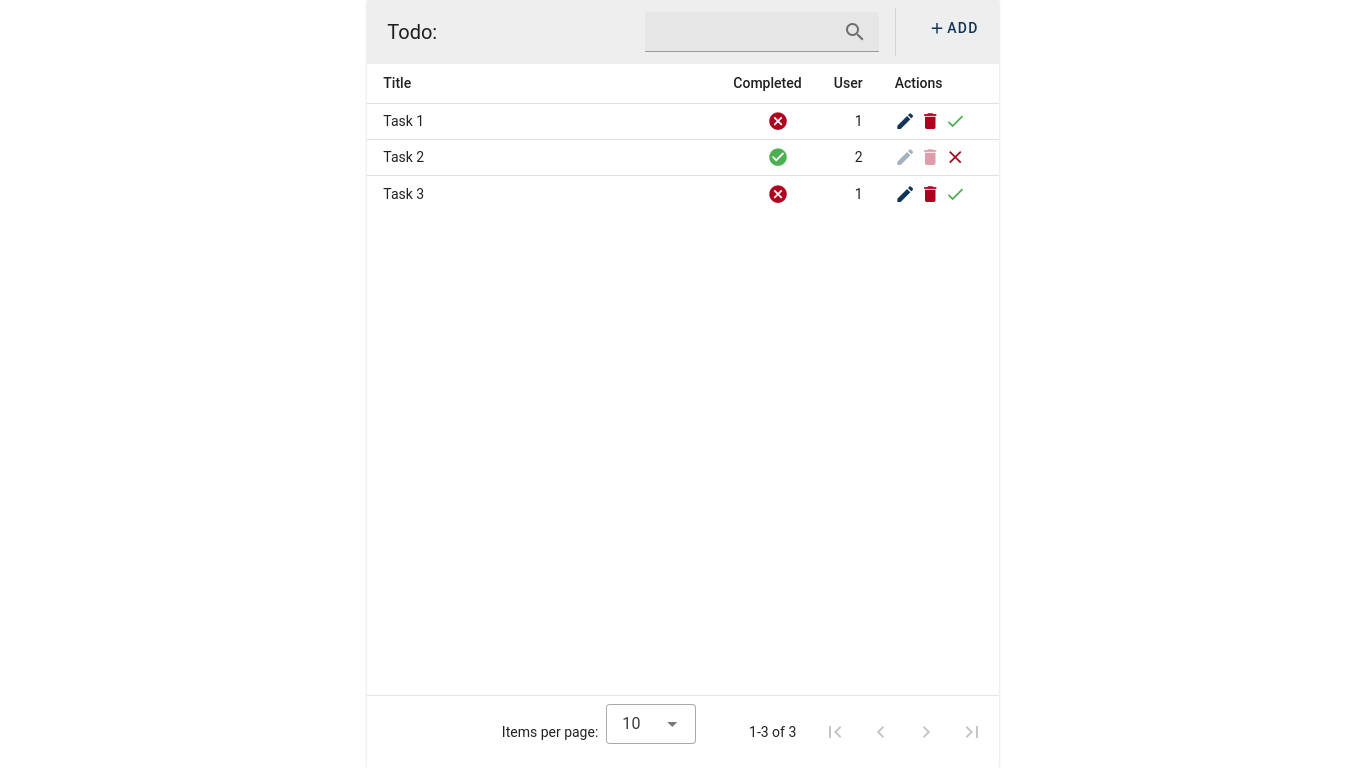
Componente ListagemData › deve limpar o formulário ao clicar no botão "Cancel"
Click the button with test id "add-button": [954, 28] box x1=912 y1=10 x2=995 y2=46
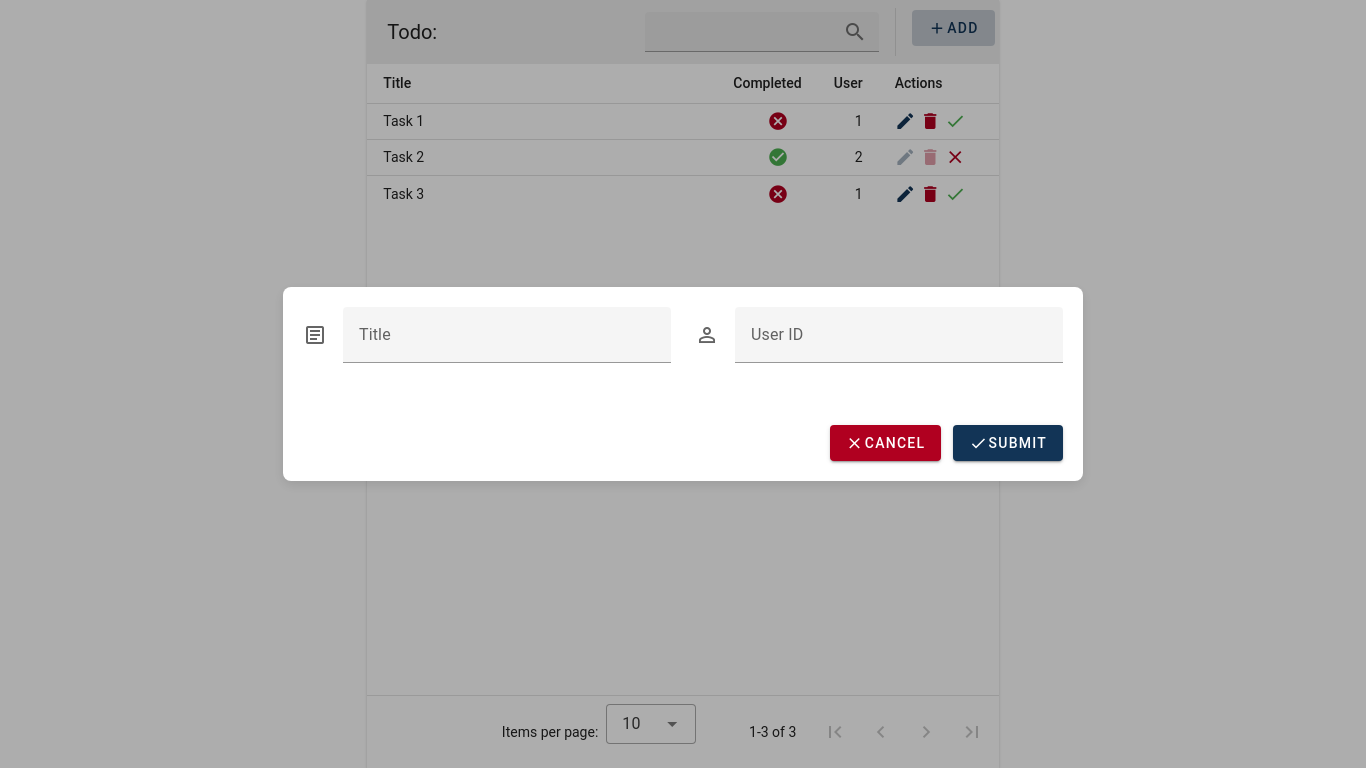
In the element with test id "title-input": [487, 346] box x1=303 y1=307 x2=671 y2=385, type "New Todo"
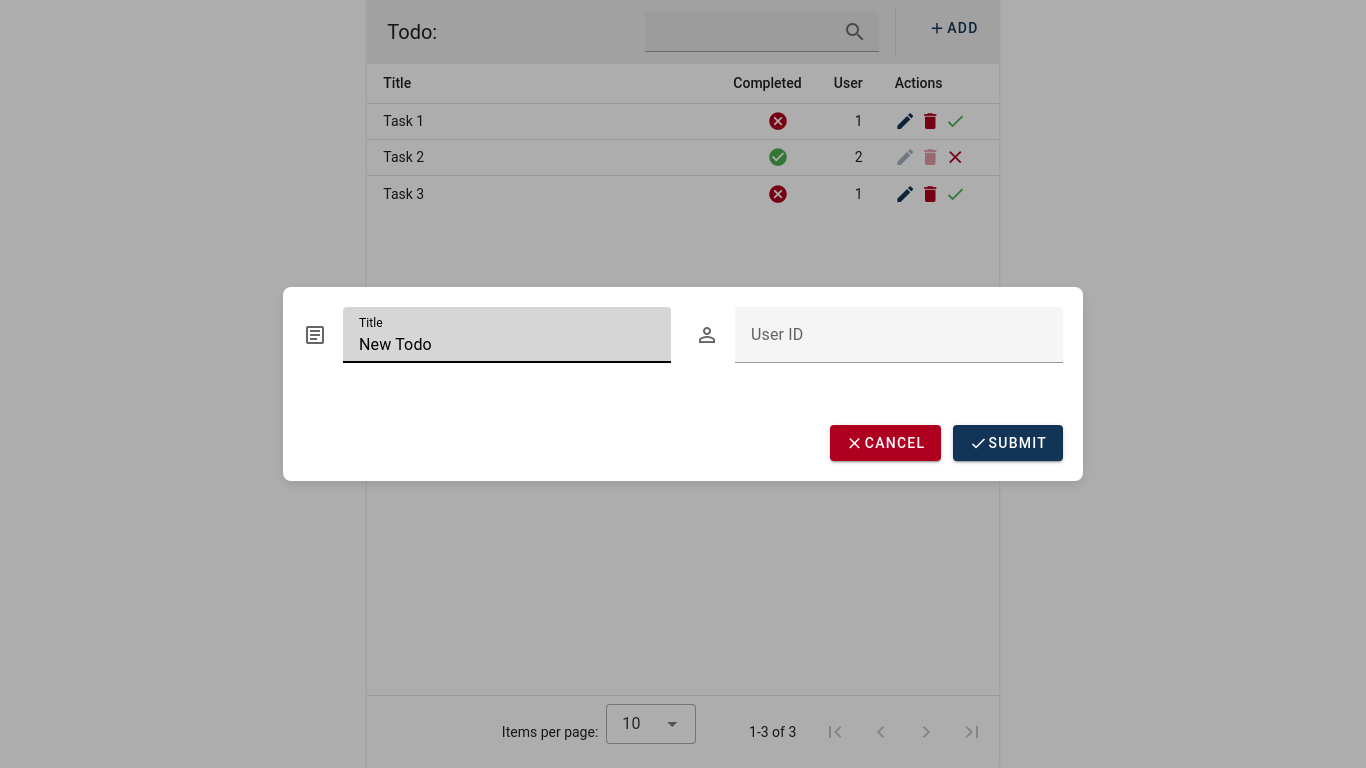
In the element with test id "user-id-input": [879, 346] box x1=695 y1=307 x2=1063 y2=385, type "2"
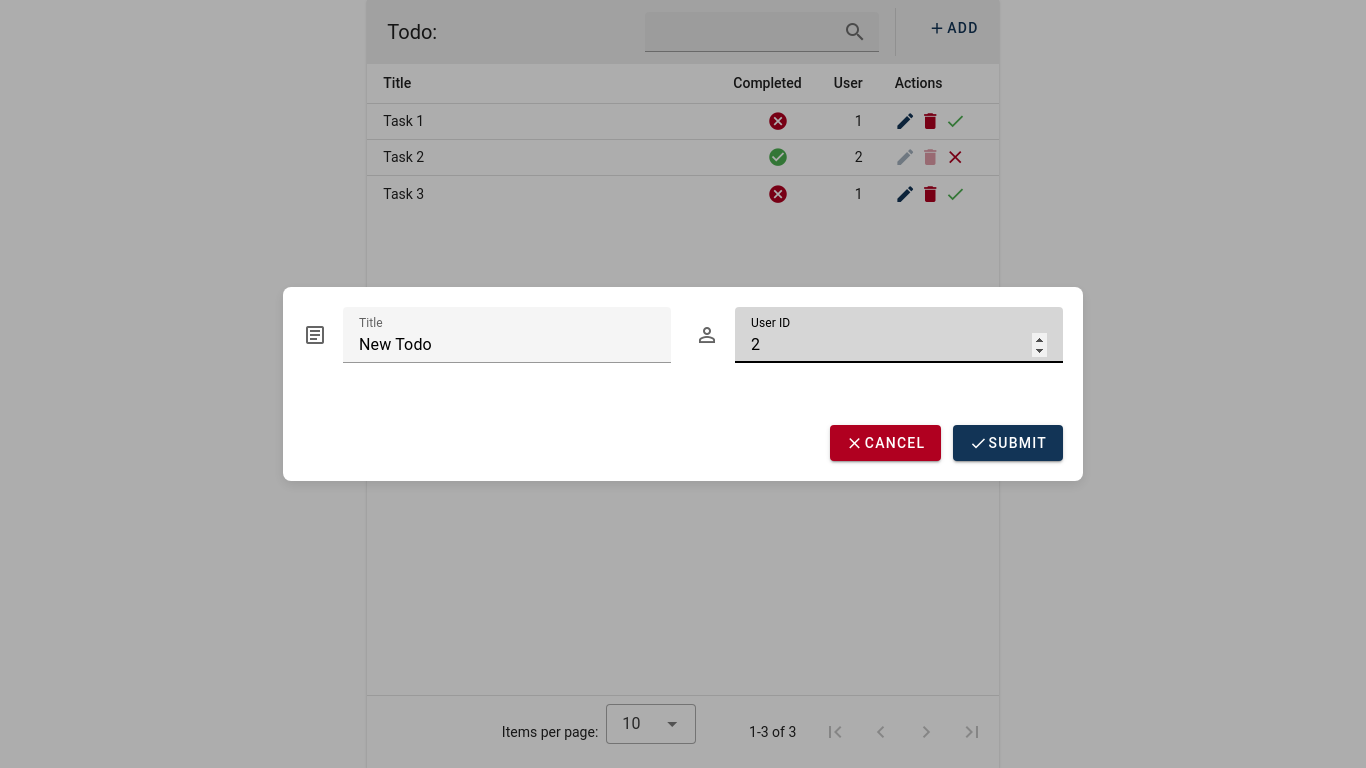
Click the button with test id "cancel-button": [886, 443] box x1=830 y1=425 x2=942 y2=461
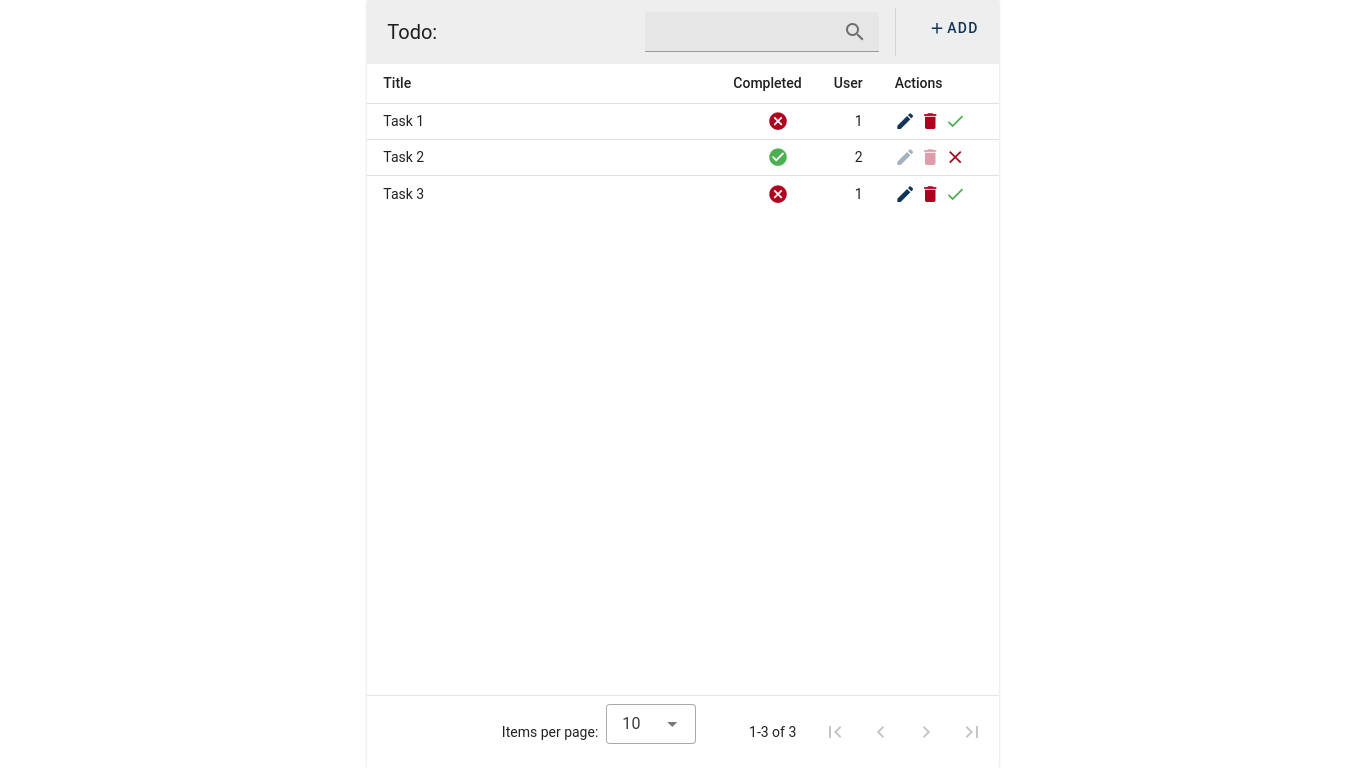
expect the form with test id "todo-form" is gone: met
